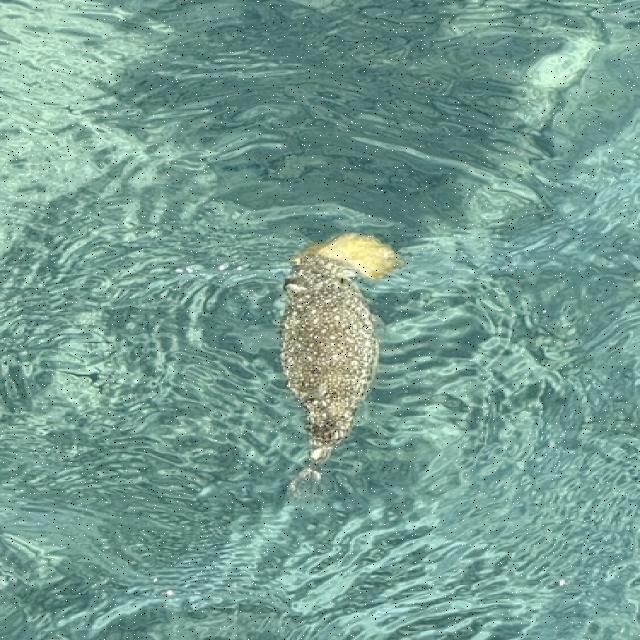Balik: (282, 233, 401, 491)
